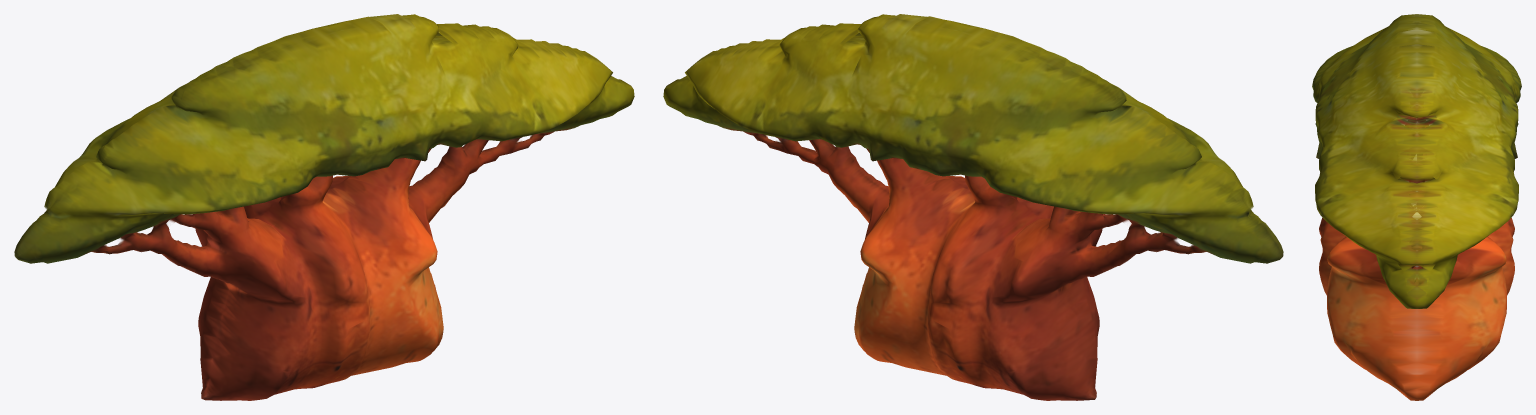
The model's file is 03_baobab_trees_r01_c01.glb.
3 renders of one model, left to right at view 1: azimuth 30°, elevation 25°; view 2: azimuth 150°, elevation 25°; view 3: azimuth 270°, elevation 25°, orthographic. The views are drawn at different scales.
Parts seen in each view (by area): view 1: 03_baobab_trees_r01_c01; view 2: 03_baobab_trees_r01_c01; view 3: 03_baobab_trees_r01_c01.
Part boxes in pixels (bbox=[...]): 03_baobab_trees_r01_c01: bbox=[14, 14, 634, 400]; 03_baobab_trees_r01_c01: bbox=[663, 14, 1283, 400]; 03_baobab_trees_r01_c01: bbox=[1312, 14, 1521, 400].
Bounding box in the file's own units: 4.47 × 2.33 × 1.47.
1 material, 1 textured.
